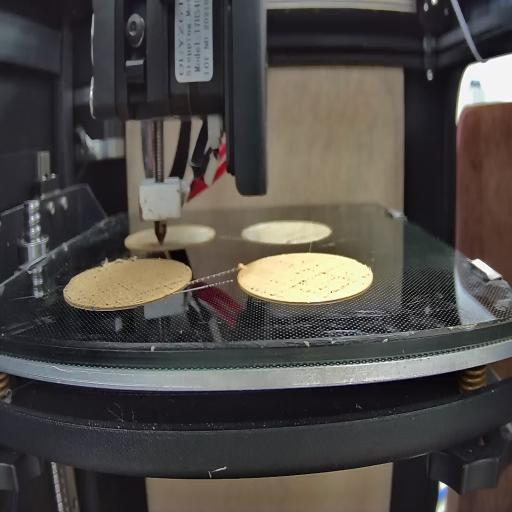under_extrusion: (292, 259, 352, 298), (77, 275, 136, 310), (144, 278, 178, 298), (250, 282, 277, 303)
